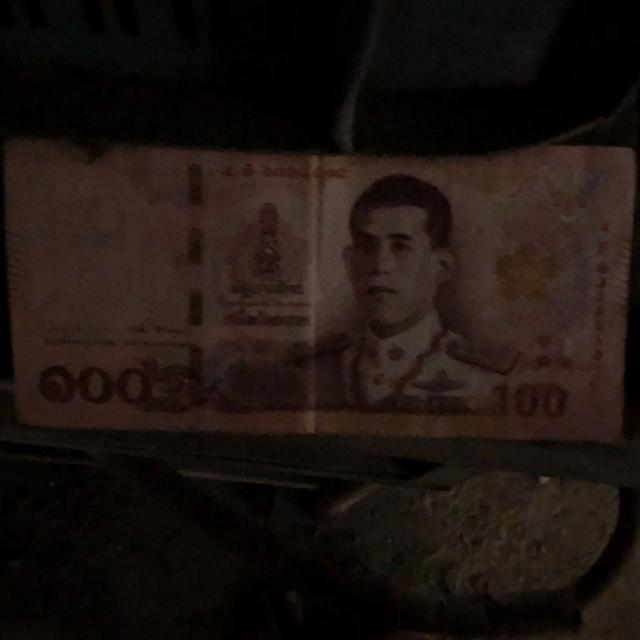THAI100: (5, 139, 634, 445)
